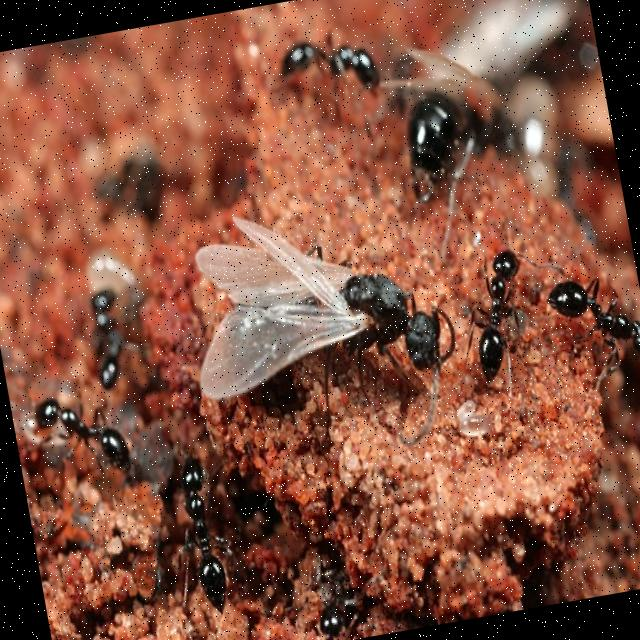Minor: (439, 208, 580, 398), (156, 420, 251, 616), (538, 245, 640, 420), (29, 383, 134, 496)
Princess: (173, 180, 460, 413)
